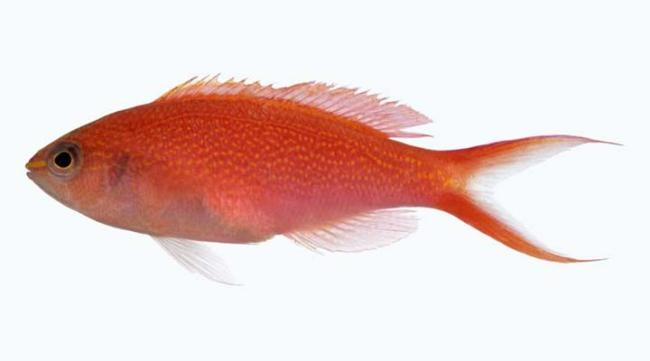fish: (24, 73, 625, 286)
